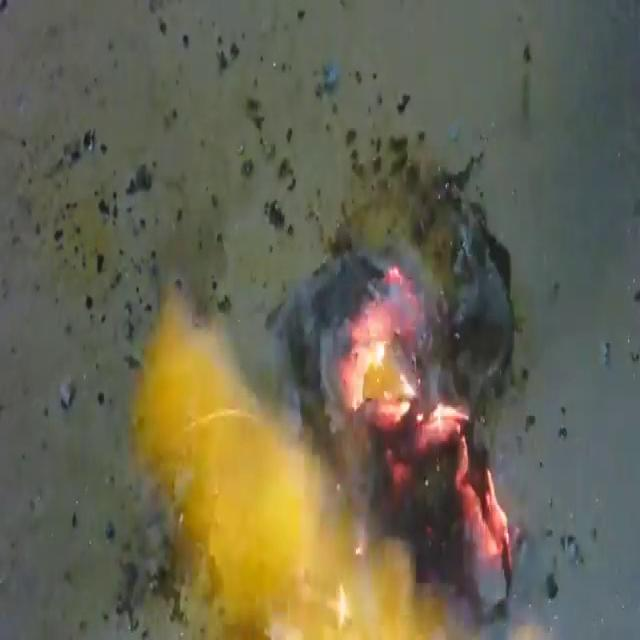Fire: (130, 253, 519, 636)
